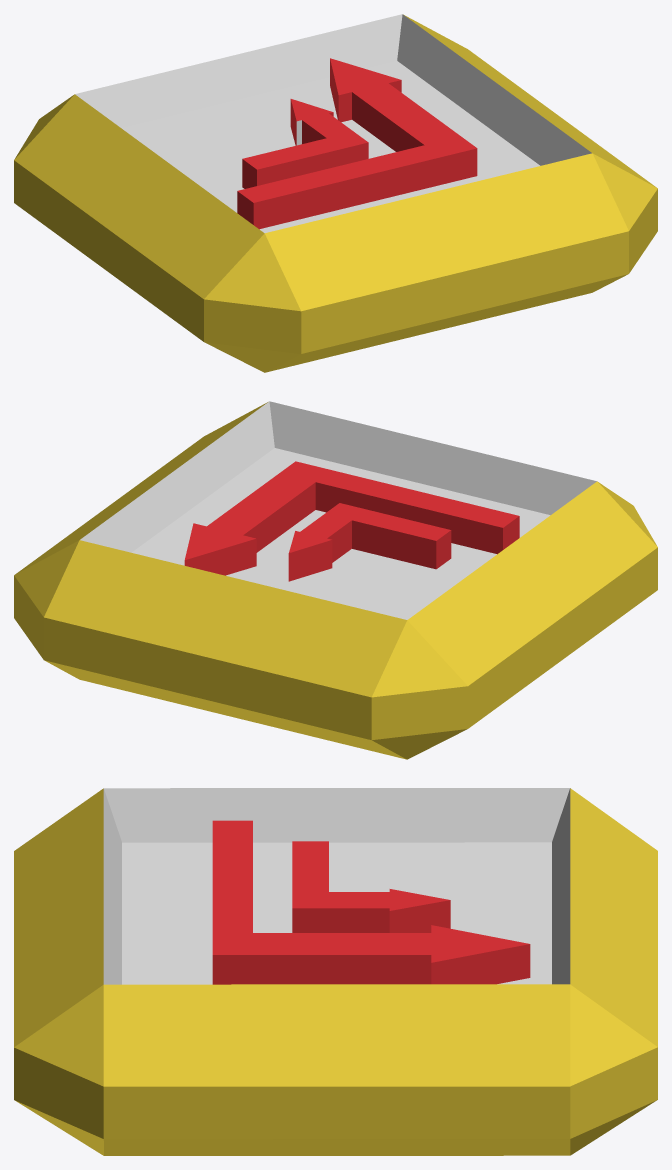
File: aitem powerup.fbx
The picture shows the model from 3 angles, top to bottom: view 1: azimuth 30°, elevation 25°; view 2: azimuth 150°, elevation 25°; view 3: azimuth 270°, elevation 25°; orthographic projection. The views are drawn at different scales.
Visible parts, largest first — view 1: Cube; view 2: Cube; view 3: Cube.
Part boxes in pixels (x1,y1,x2,y2): Cube: [14, 14, 657, 372]; Cube: [14, 401, 657, 759]; Cube: [14, 788, 657, 1155].
Bounding box in the file's own units: 200 × 58.84 × 200.
